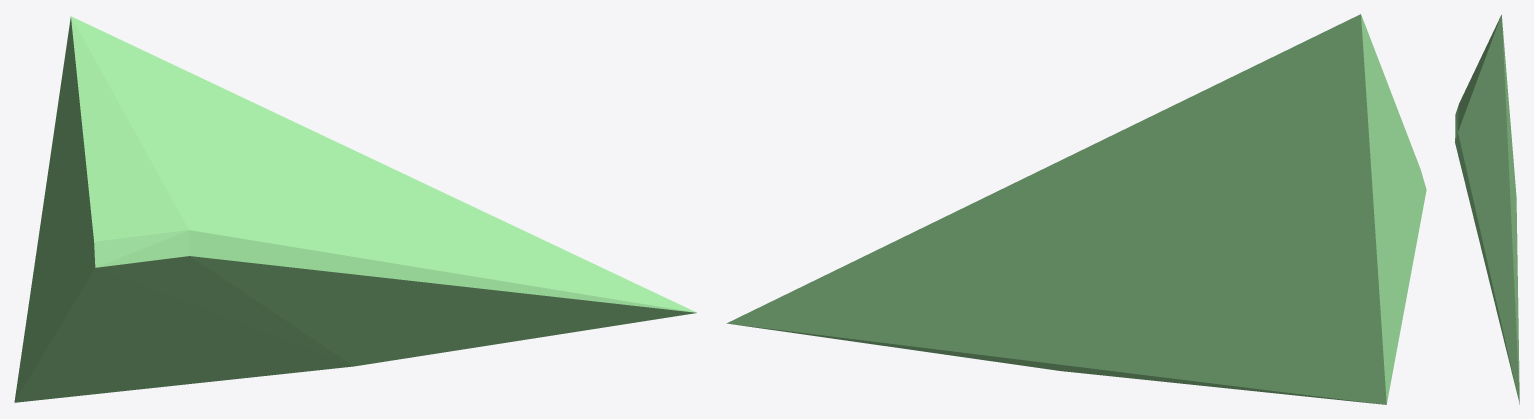
Rendered from UMIRobot_UMIRobot_link_5_convex_coll_16.dae.
3 views of the same model, side by side, from view 1: azimuth 30°, elevation 25°; view 2: azimuth 150°, elevation 25°; view 3: azimuth 270°, elevation 25° (orthographic). The views are drawn at different scales.
Visible parts, largest first — view 1: node; view 2: node; view 3: node.
Boxes of the visible parts, x1,y1,x2,y2 form: node: [14, 16, 696, 402]; node: [726, 14, 1426, 404]; node: [1455, 14, 1519, 404].
Size of the model in its own units: 0.058 by 0.0377 by 0.00947.
